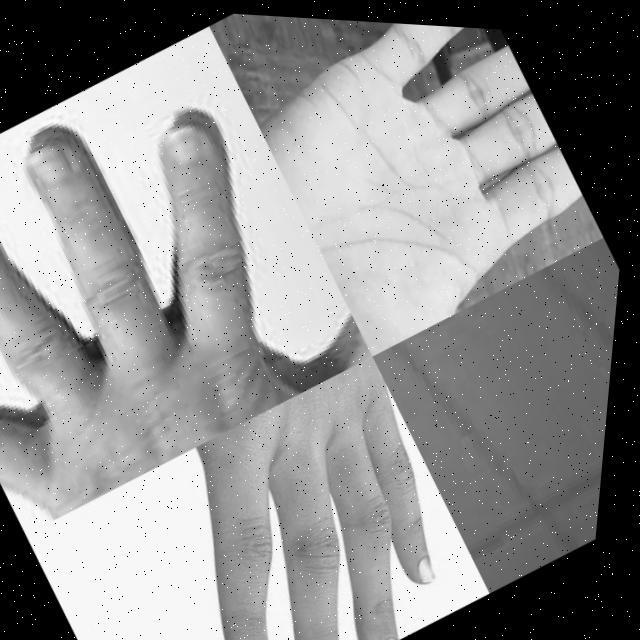no-gloves: (0, 38, 398, 548), (224, 12, 621, 360), (67, 337, 516, 640), (372, 284, 556, 462)
